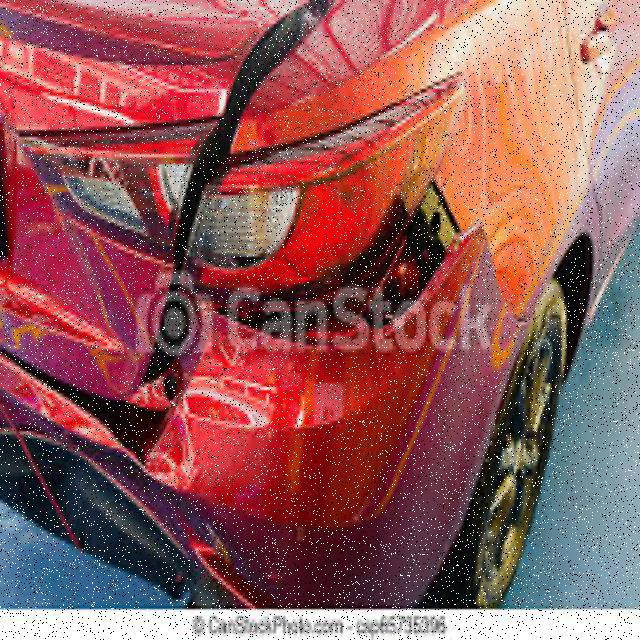rear-bumper-dent: (2, 313, 514, 621)
